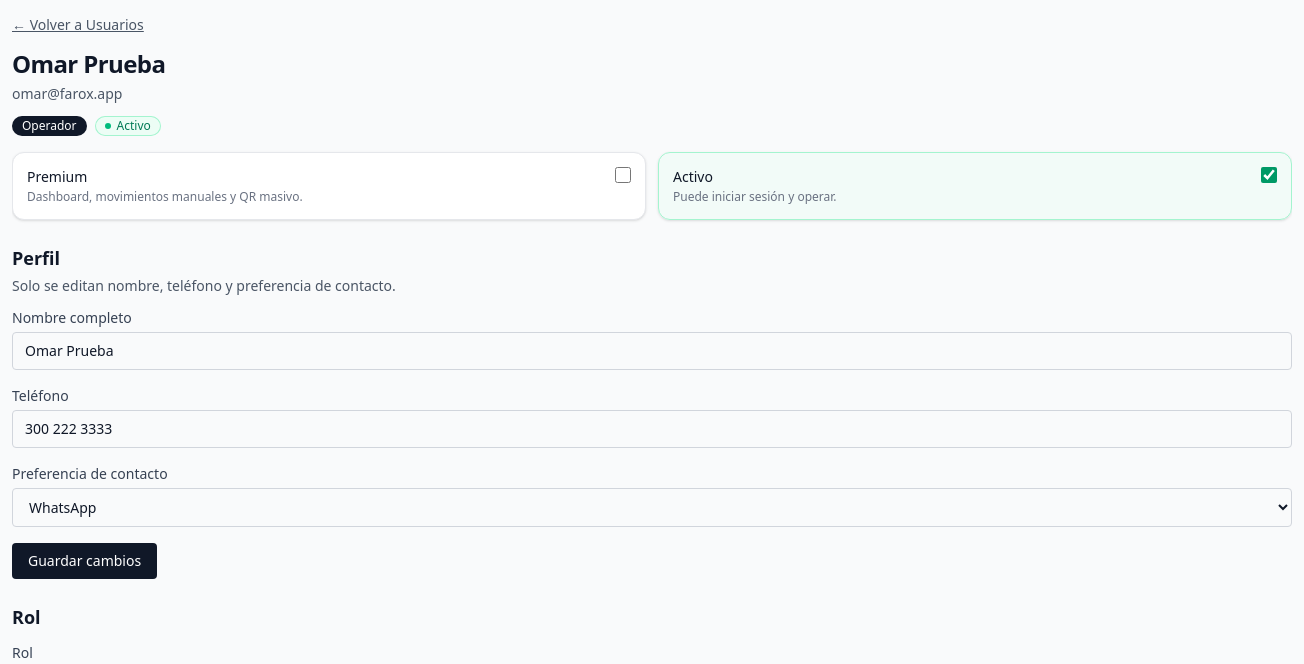
Test case: UserDetailPage · ADM-4 (perfil: SOLO las 3 columnas GRANT'd) › ADM-4.2: nombre vacío ⇒ error inline y CERO requests (Zod ANTES de la red)
This screenshot has width=1304, height=664.
Clear the field labelled "Nombre completo": x=652, y=351 [12,332,1292,370]
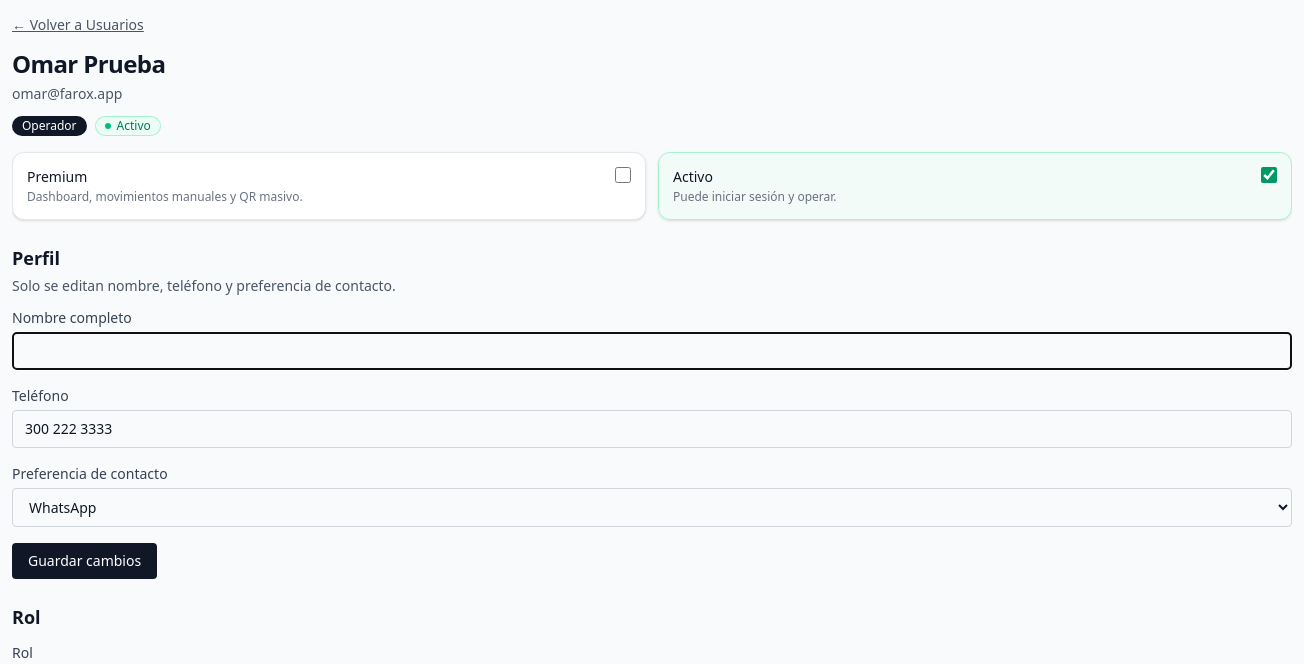
Click the button "Guardar cambios": x=85, y=561 [12,543,157,579]
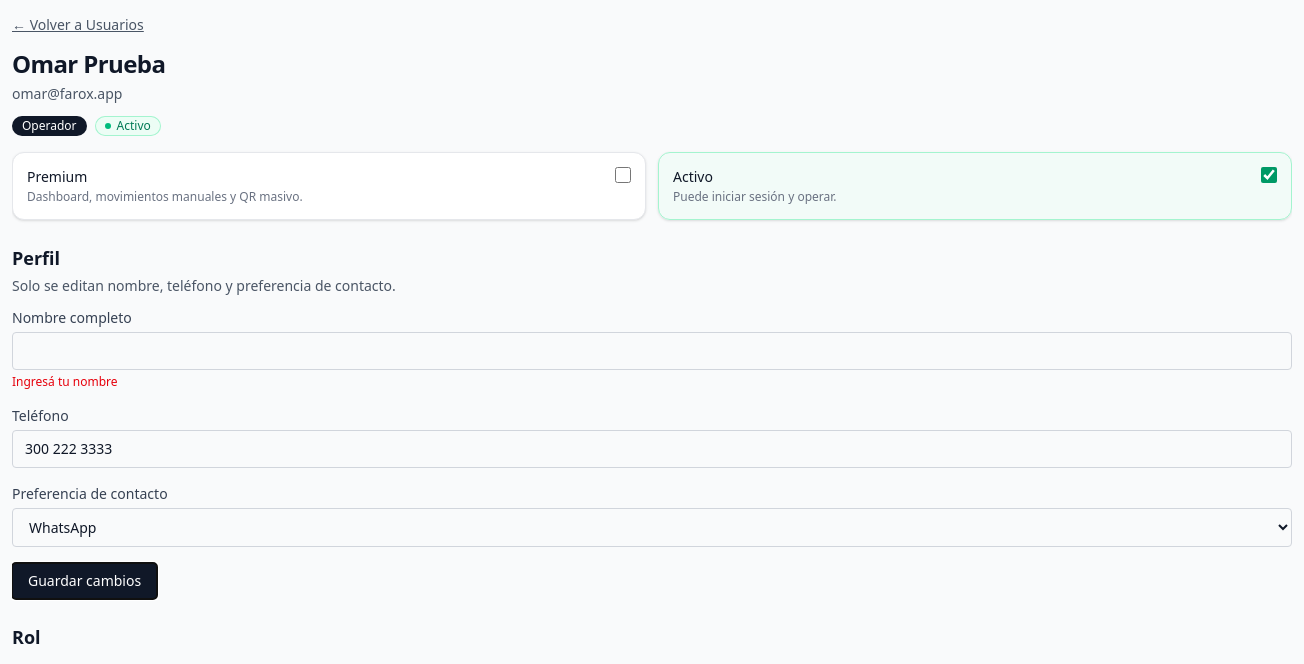
Now the text "Ingresá tu nombre" is shown, box [12,373,118,390]
